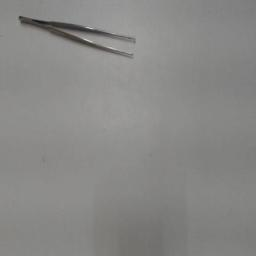Gillies Toothed Dissector: (18, 12, 142, 64)
